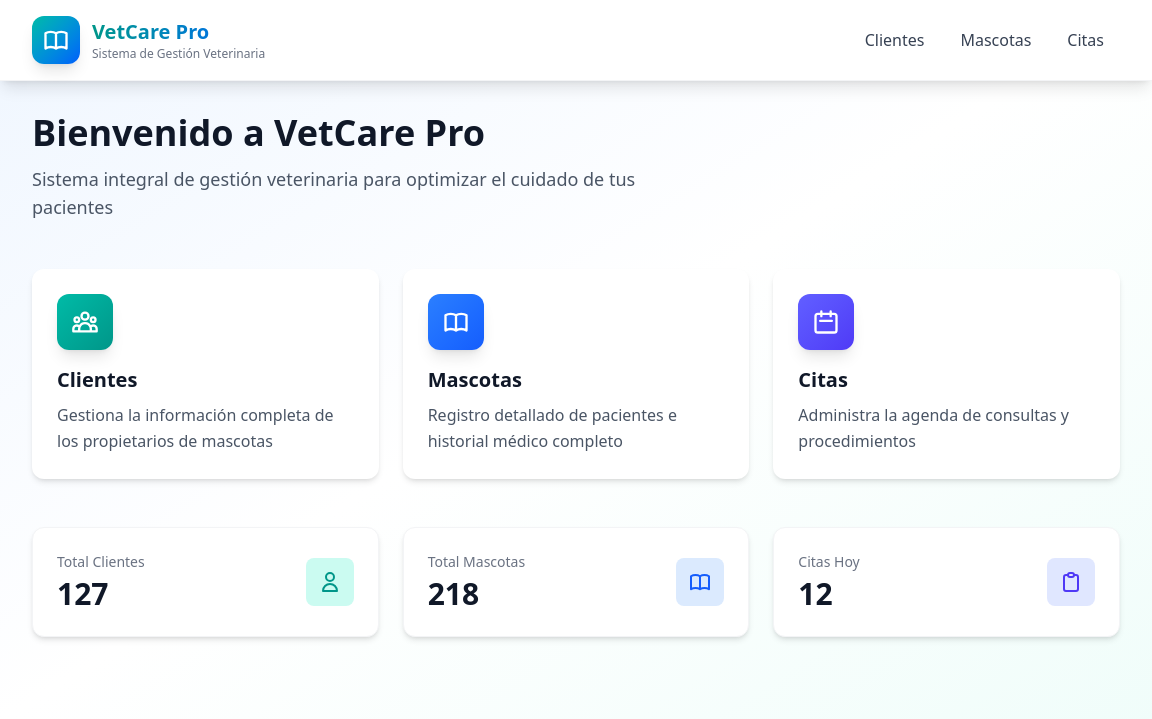
Test case: MascotApp E2E Tests › Página de Inicio › navega a la página de mascotas al hacer clic
Click the heading "Mascotas" at (475, 380), box [428, 366, 522, 393]
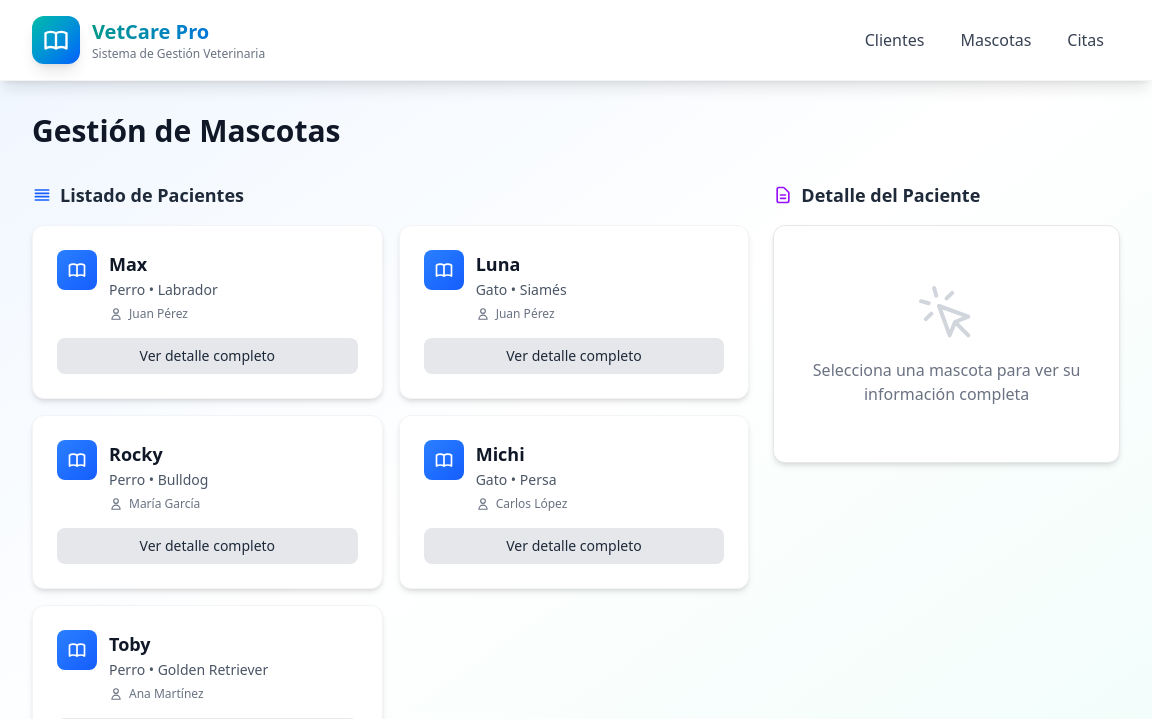
Expected: the heading "Gestión de Mascotas" is shown, [32, 110, 340, 151]
